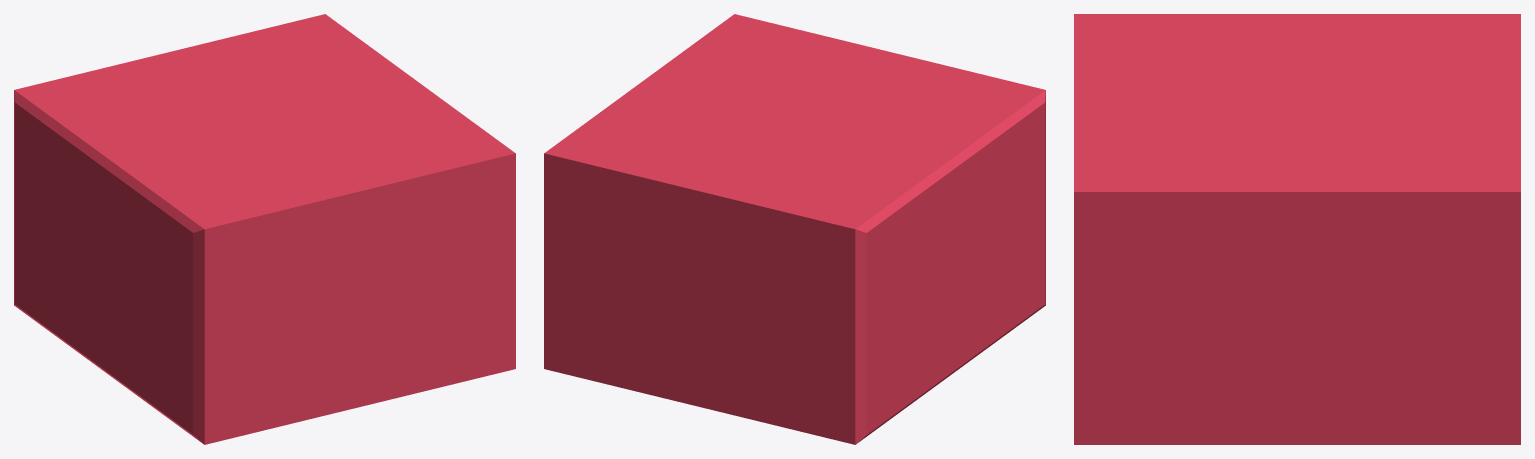
Rendered from Itr_Couch_Inside_Seat_Right_01.FBX.
3 renders of one model, left to right at view 1: azimuth 30°, elevation 25°; view 2: azimuth 150°, elevation 25°; view 3: azimuth 270°, elevation 25°, orthographic. The views are drawn at different scales.
Visible parts, largest first — view 1: Itr_Couch_Inside_Seat_Right_01; view 2: Itr_Couch_Inside_Seat_Right_01; view 3: Itr_Couch_Inside_Seat_Right_01.
Boxes of the visible parts, x1,y1,x2,y2 form: Itr_Couch_Inside_Seat_Right_01: (14,14,515,444); Itr_Couch_Inside_Seat_Right_01: (544,14,1045,444); Itr_Couch_Inside_Seat_Right_01: (1074,14,1520,444).
Size of the model in its own units: 18.88 by 12.29 by 19.68.
